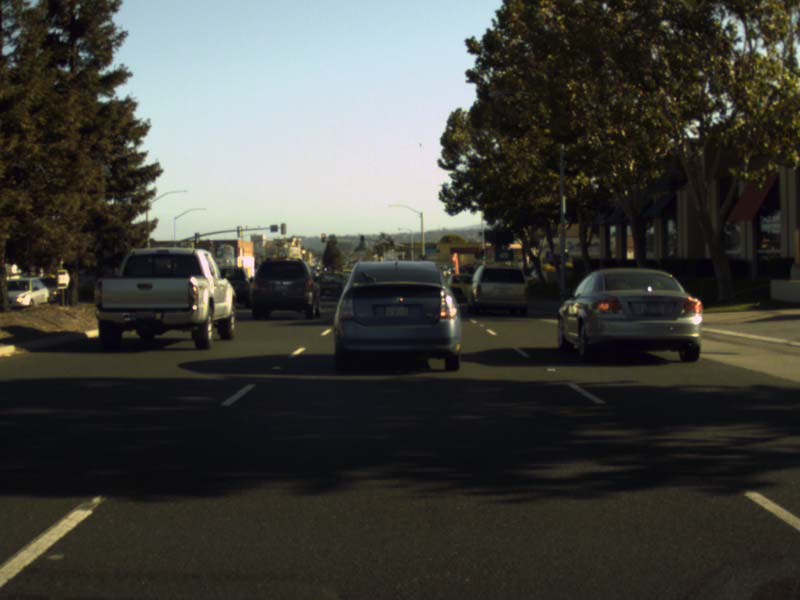Red: (321, 232, 325, 242)
